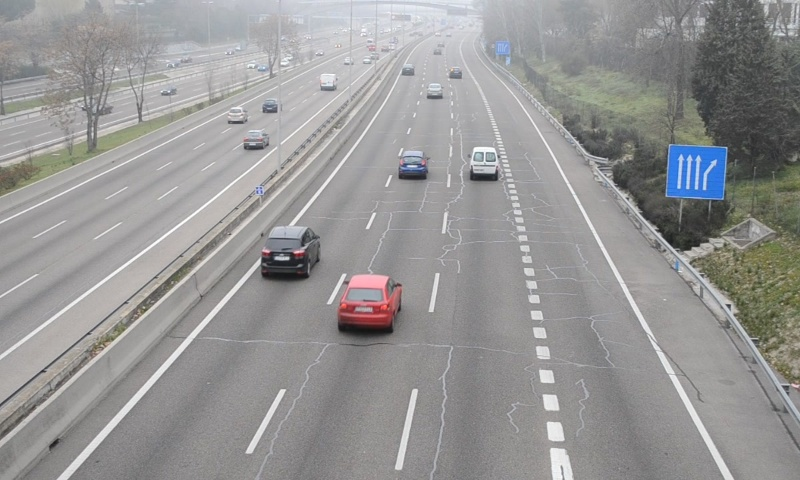car: (337, 276, 400, 330), (260, 226, 318, 276), (398, 151, 427, 178), (426, 82, 444, 99)
van: (470, 146, 498, 178)
